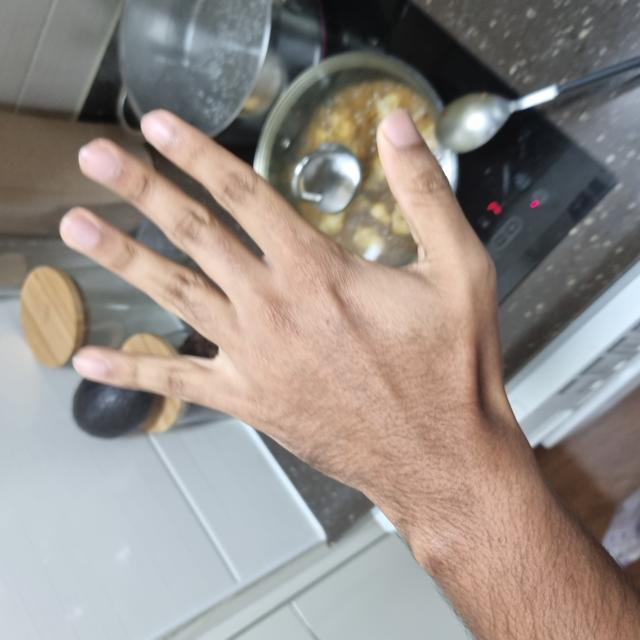Paper: (129, 62, 532, 511)
